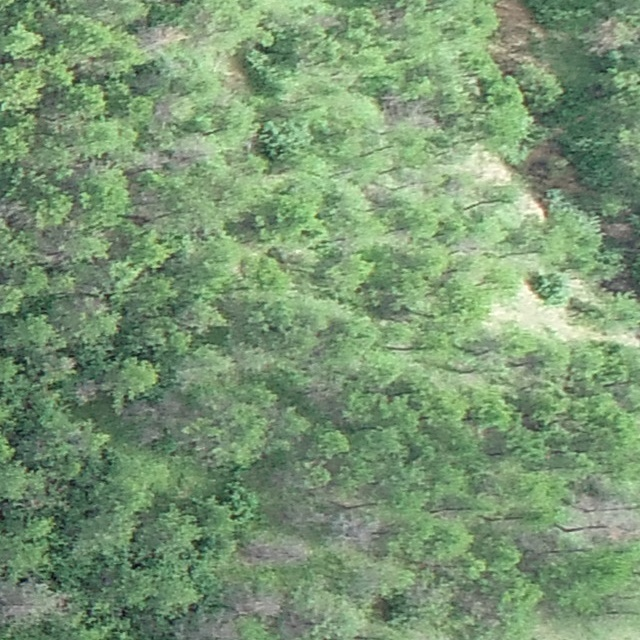unhealthy: (0, 577, 72, 624), (486, 30, 537, 71), (579, 18, 630, 58), (587, 505, 640, 541), (238, 542, 308, 567), (229, 585, 280, 619), (334, 514, 377, 554), (383, 99, 439, 128), (134, 25, 192, 49), (575, 477, 613, 512), (452, 590, 496, 620), (494, 0, 533, 28), (194, 616, 239, 640), (71, 285, 107, 315), (37, 233, 68, 267), (35, 347, 75, 373), (517, 533, 558, 556), (137, 189, 164, 223), (372, 4, 407, 30), (0, 201, 28, 231), (171, 147, 213, 166), (154, 98, 178, 127), (603, 222, 632, 243), (308, 12, 339, 31), (126, 399, 154, 418), (78, 382, 102, 403), (145, 147, 168, 167), (164, 393, 182, 418), (143, 427, 165, 446), (461, 243, 482, 257)
